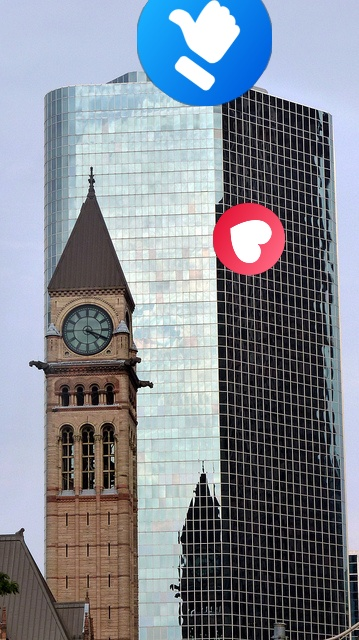like: (137, 0, 272, 106)
love: (213, 203, 285, 275)
